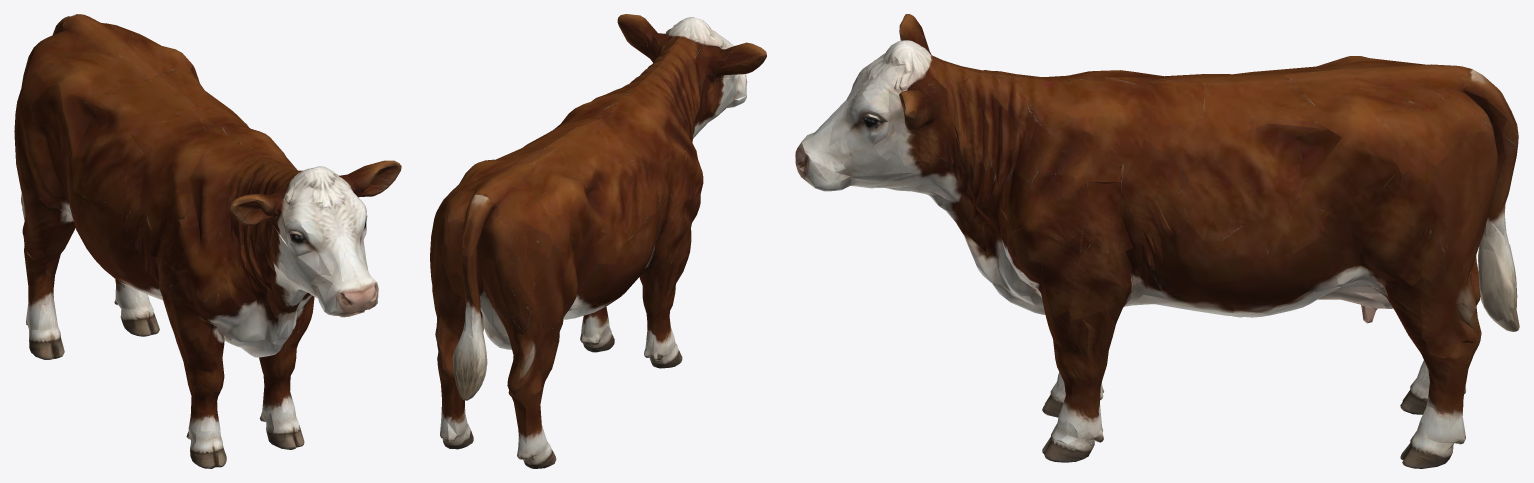
File: cow_a.glb
The picture shows the model from 3 angles, left to right: view 1: azimuth 30°, elevation 25°; view 2: azimuth 150°, elevation 25°; view 3: azimuth 270°, elevation 25°; orthographic projection. The views are drawn at different scales.
Bounding box in the file's own units: 0.6044 × 1.14 × 1.9.
Materials: 1 (1 with a texture image).
